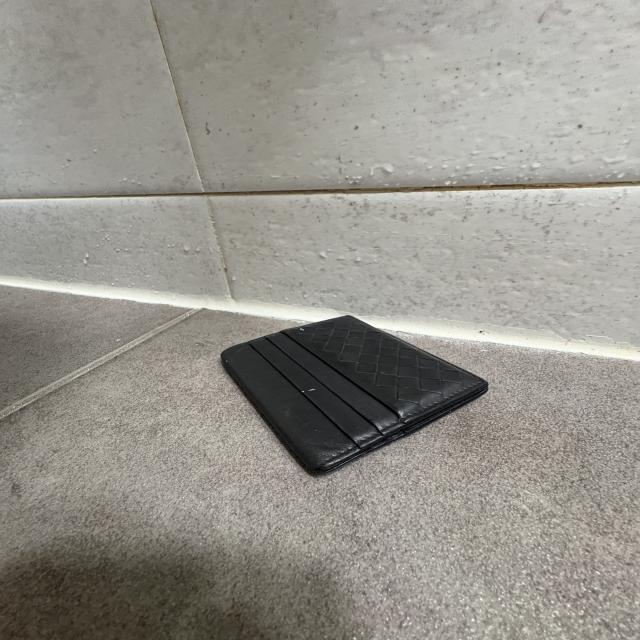wallet: (222, 311, 494, 481)
